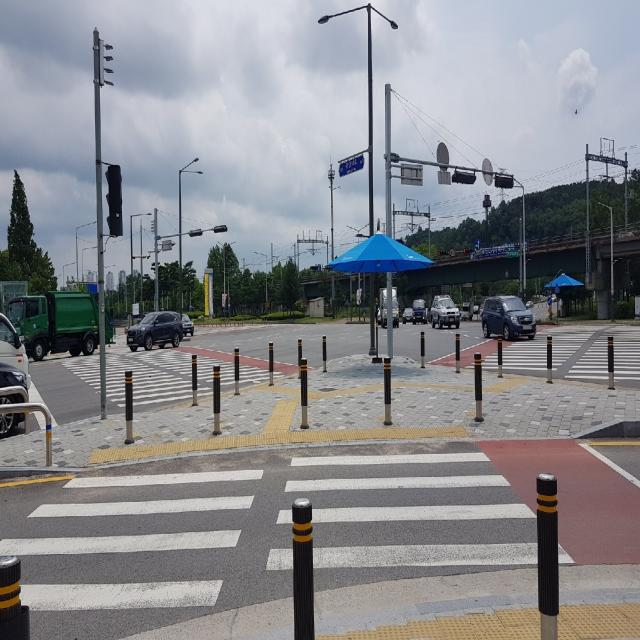횡단보도: (0, 452, 576, 614), (52, 345, 284, 408), (464, 326, 640, 382)
